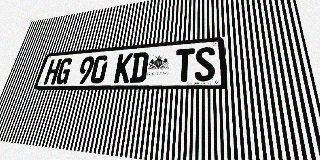0: (89, 55, 109, 84)
9: (76, 56, 96, 84)
D: (129, 52, 149, 83)
G: (55, 58, 74, 84)
H: (43, 59, 62, 85)
K: (113, 53, 133, 83)
S: (195, 46, 215, 81)
T: (175, 48, 195, 82)
